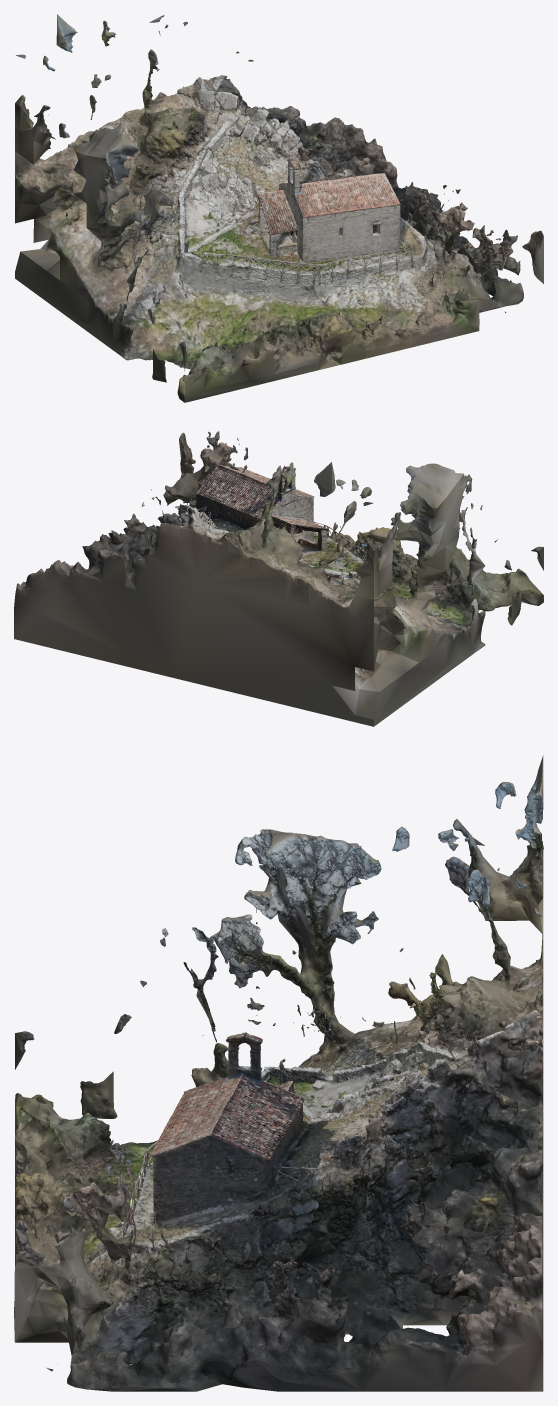
File: rupis.glb
3 renders of one model, top to bottom at view 1: azimuth 30°, elevation 25°; view 2: azimuth 150°, elevation 25°; view 3: azimuth 270°, elevation 25°, orthographic. The views are drawn at different scales.
Parts seen in each view (by area): view 1: Mesh_0_Part_0; view 2: Mesh_0_Part_0; view 3: Mesh_0_Part_0.
Boxes of the visible parts, x1,y1,x2,y2 form: Mesh_0_Part_0: [14, 14, 543, 402]; Mesh_0_Part_0: [14, 431, 543, 726]; Mesh_0_Part_0: [14, 755, 543, 1391].
Bounding box in the file's own units: 39.4 × 26.57 × 32.08.
